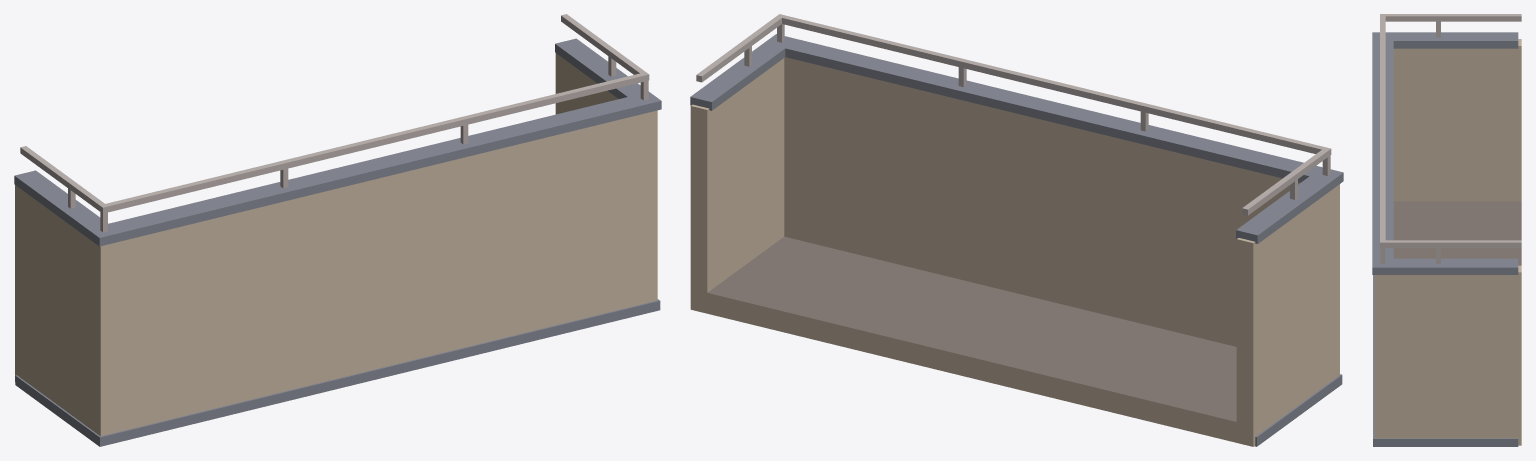
File: SM_Fixture_BalconyShort25620_Cream_01.gltf
The picture shows the model from 3 angles, left to right: view 1: azimuth 30°, elevation 25°; view 2: azimuth 150°, elevation 25°; view 3: azimuth 270°, elevation 25°; orthographic projection. The views are drawn at different scales.
Parts seen in each view (by area): view 1: SM_Fixture_BalconyShort25620_Cream_01; view 2: SM_Fixture_BalconyShort25620_Cream_01; view 3: SM_Fixture_BalconyShort25620_Cream_01.
Part boxes in pixels (x1=…): SM_Fixture_BalconyShort25620_Cream_01: x1=14, y1=14, x2=661, y2=446; SM_Fixture_BalconyShort25620_Cream_01: x1=690, y1=14, x2=1343, y2=446; SM_Fixture_BalconyShort25620_Cream_01: x1=1372, y1=14, x2=1521, y2=446.
Size of the model in its own units: 3.41 by 1.36 by 0.915.
Materials: 1 (1 with a texture image).
